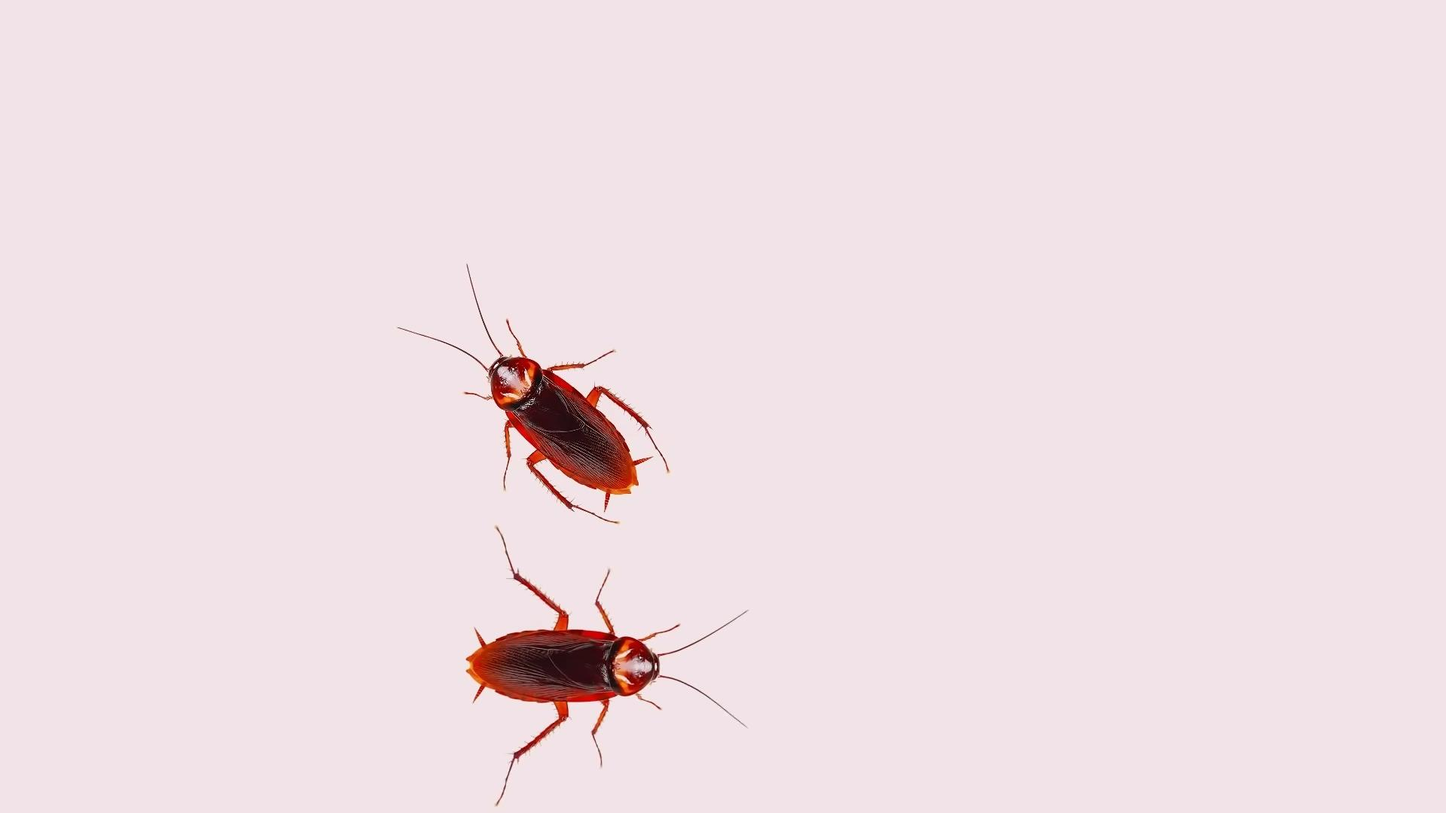cockroach: (387, 257, 685, 527), (448, 535, 730, 790)
